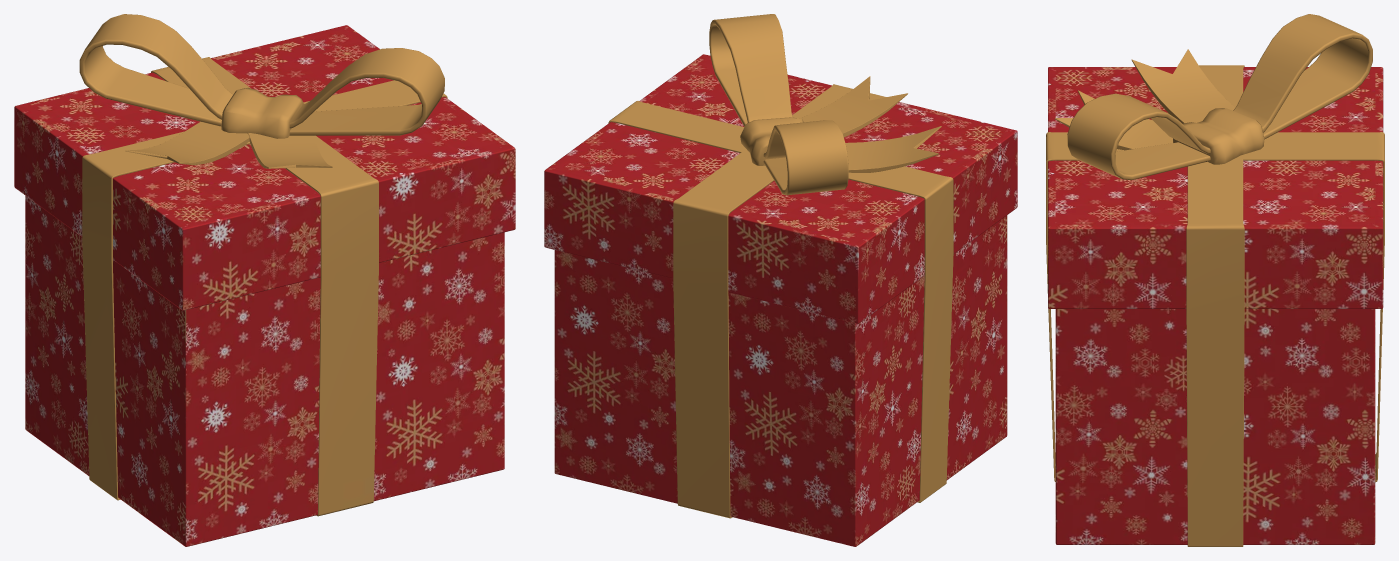
The model's file is realgift.glb.
3 views of the same model, side by side, from view 1: azimuth 30°, elevation 25°; view 2: azimuth 150°, elevation 25°; view 3: azimuth 270°, elevation 25° (orthographic). The views are drawn at different scales.
Parts seen in each view (by area): view 1: Box_giftbox_0; view 2: Box_giftbox_0; view 3: Box_giftbox_0.
Part boxes in pixels (x1,y1,x2,y2): Box_giftbox_0: [14, 14, 515, 546]; Box_giftbox_0: [544, 14, 1017, 546]; Box_giftbox_0: [1046, 14, 1384, 546].
Bounding box in the file's own units: 0.2605 × 0.3 × 0.2289.
Materials: 1 (1 with a texture image).
